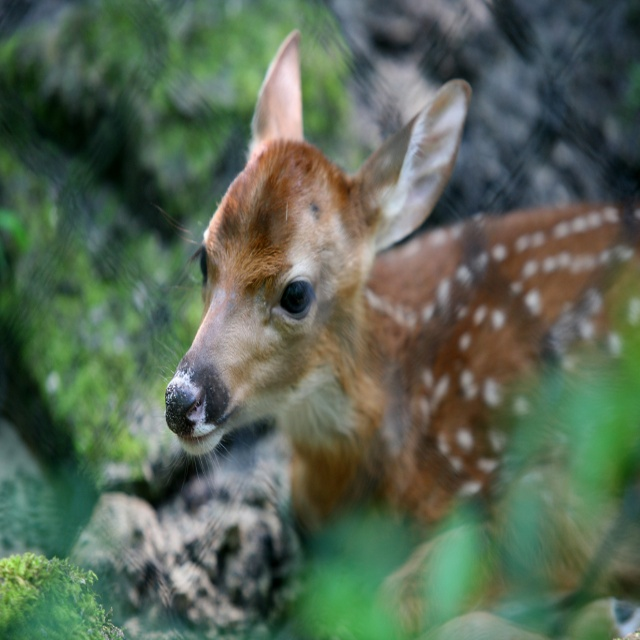Deer: (164, 33, 640, 636)
